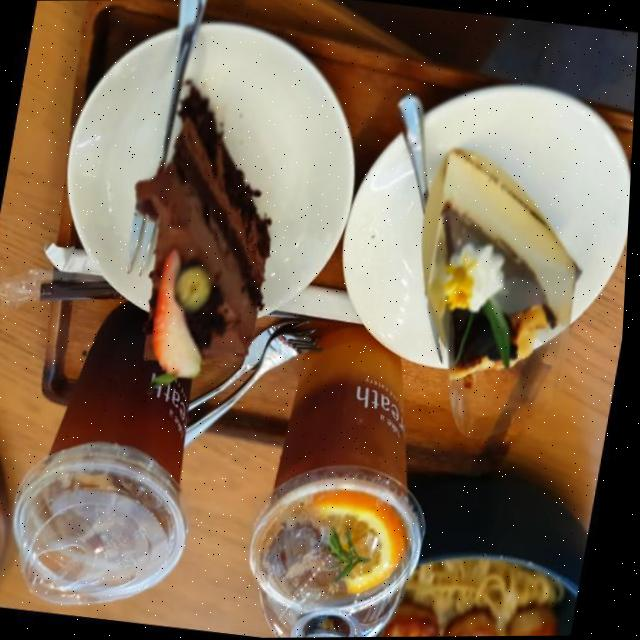cup: (4, 297, 209, 631), (261, 322, 443, 638)
